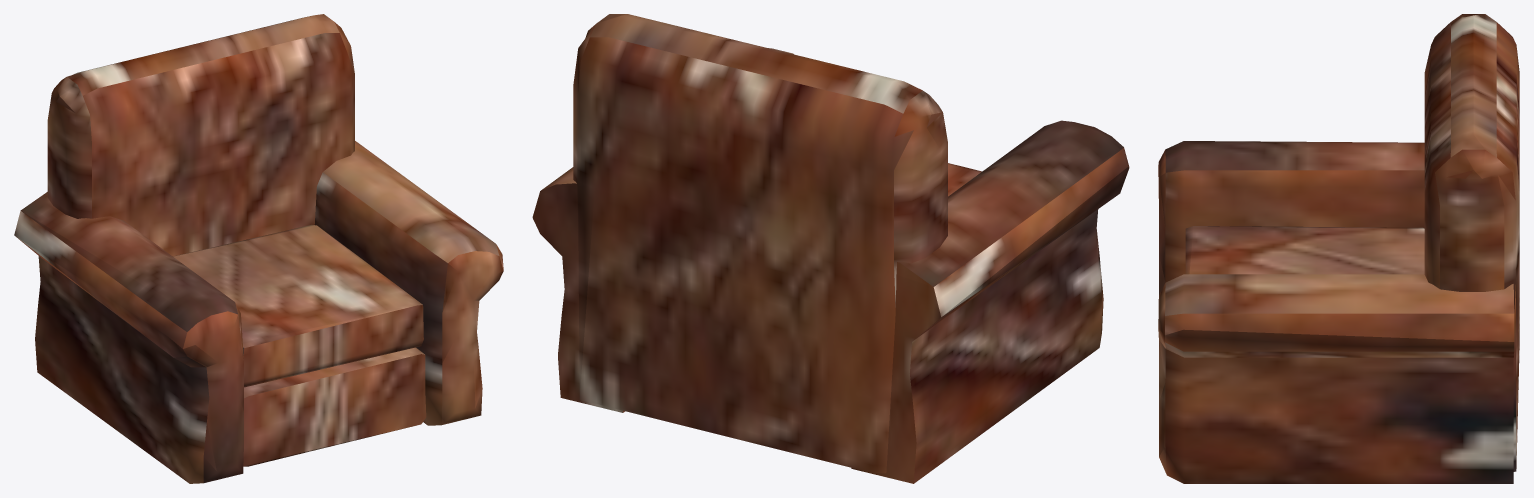
The model's file is sofab.glb.
3 views of the same model, side by side, from view 1: azimuth 30°, elevation 25°; view 2: azimuth 150°, elevation 25°; view 3: azimuth 270°, elevation 25° (orthographic). The views are drawn at different scales.
Parts seen in each view (by area): view 1: tocut.002; view 2: tocut.002; view 3: tocut.002.
Boxes of the visible parts, x1=… form: tocut.002: x1=14, y1=14, x2=503, y2=483; tocut.002: x1=532, y1=14, x2=1129, y2=483; tocut.002: x1=1158, y1=14, x2=1519, y2=483.
Bounding box in the file's own units: 0.9948 × 0.8722 × 0.8588.
Materials: 1 (1 with a texture image).
